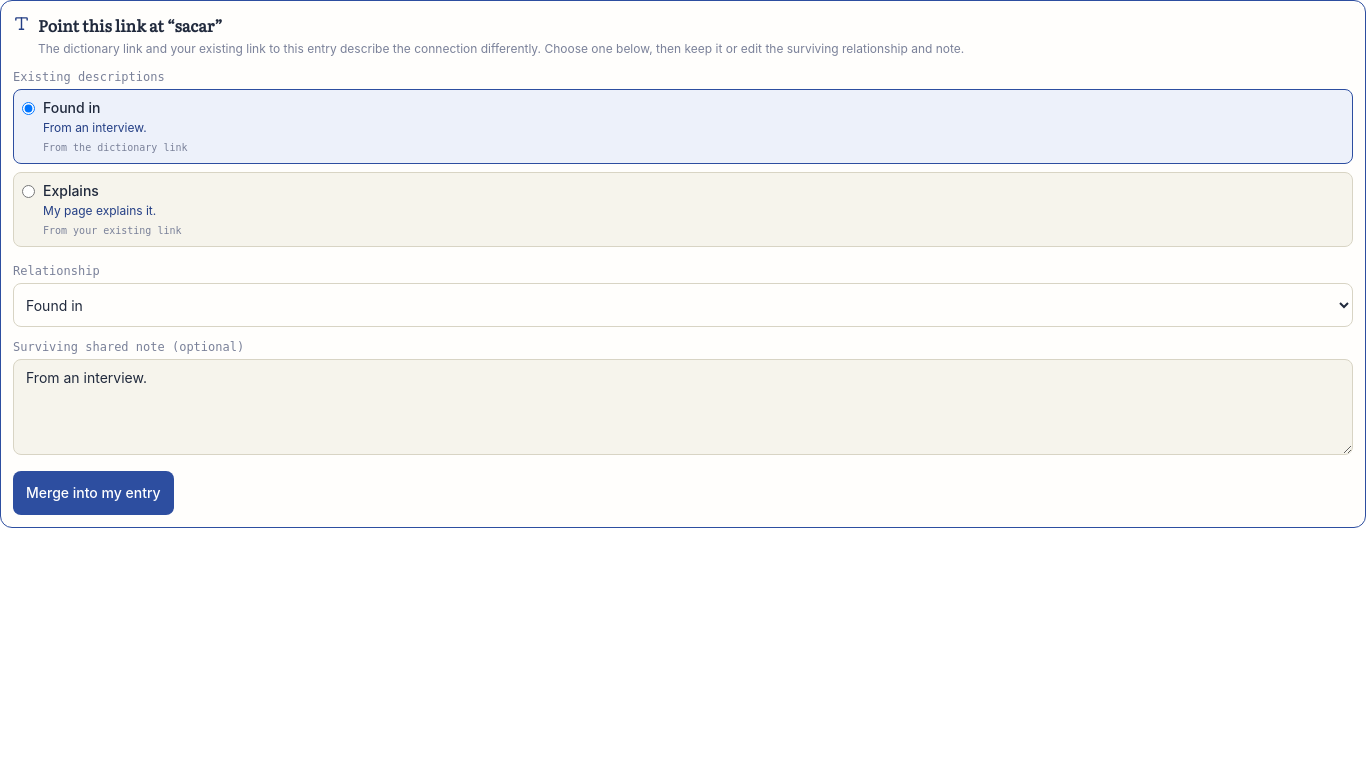
Test: TwinMergeResolver › keeps the offer visible and explains a failed merge
The width and height of the screenshot is (1366, 768).
Step 1. Click the button "Merge into my entry" → [93, 493], box [13, 471, 174, 515]
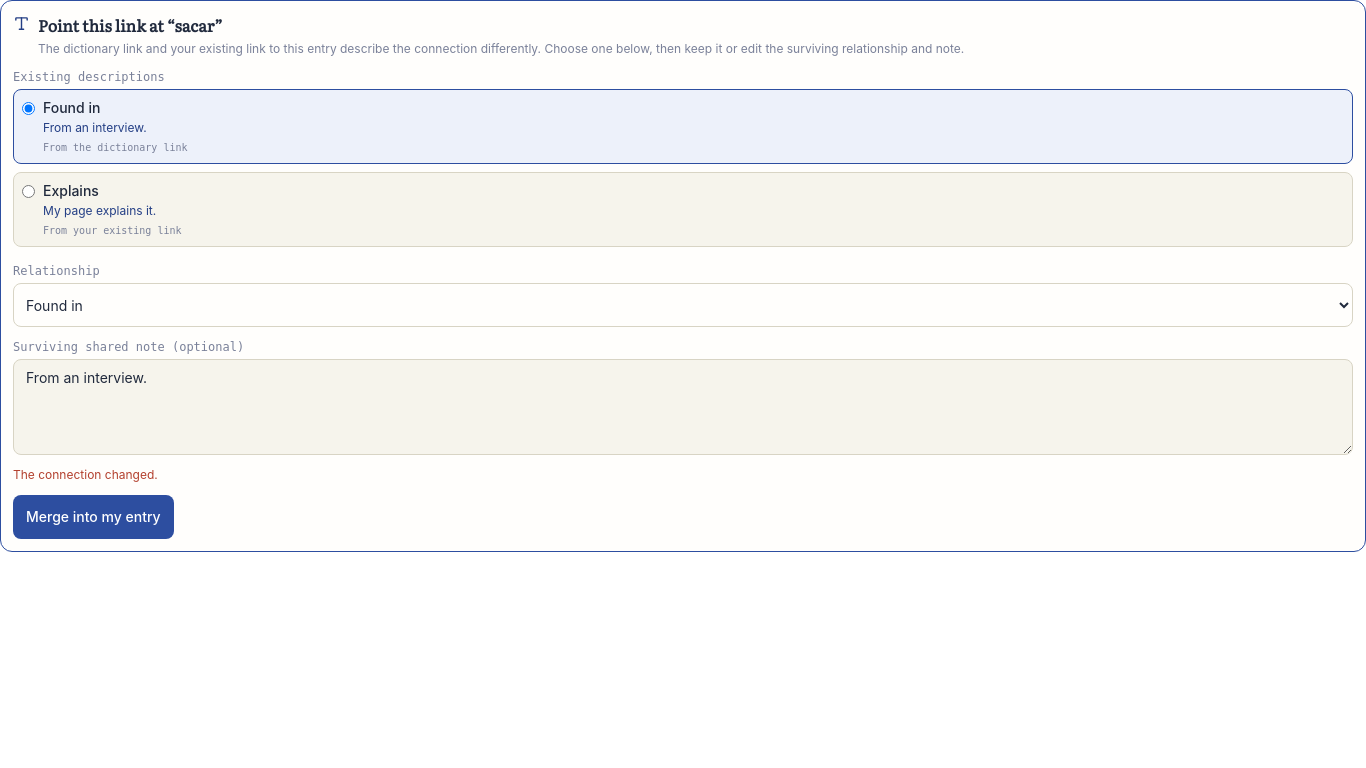
Expected: the heading "Point this link at “sacar”" is shown, [38, 13, 223, 37]
Result: the message reads "The connection changed." at [13, 467, 158, 482]
